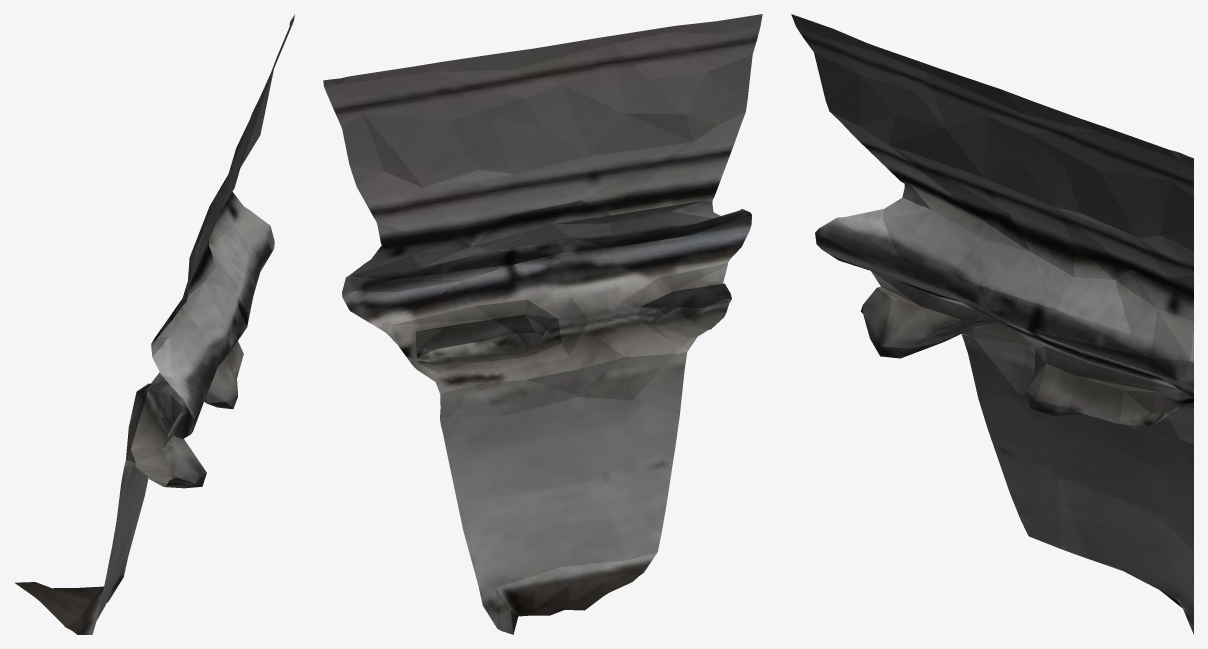
The picture shows the model from 3 angles, left to right: view 1: azimuth 30°, elevation 25°; view 2: azimuth 150°, elevation 25°; view 3: azimuth 270°, elevation 25°; orthographic projection. The views are drawn at different scales.
Bounding box in the file's own units: 0.2948 × 0.5475 × 0.3475.
1 material, 1 textured.
